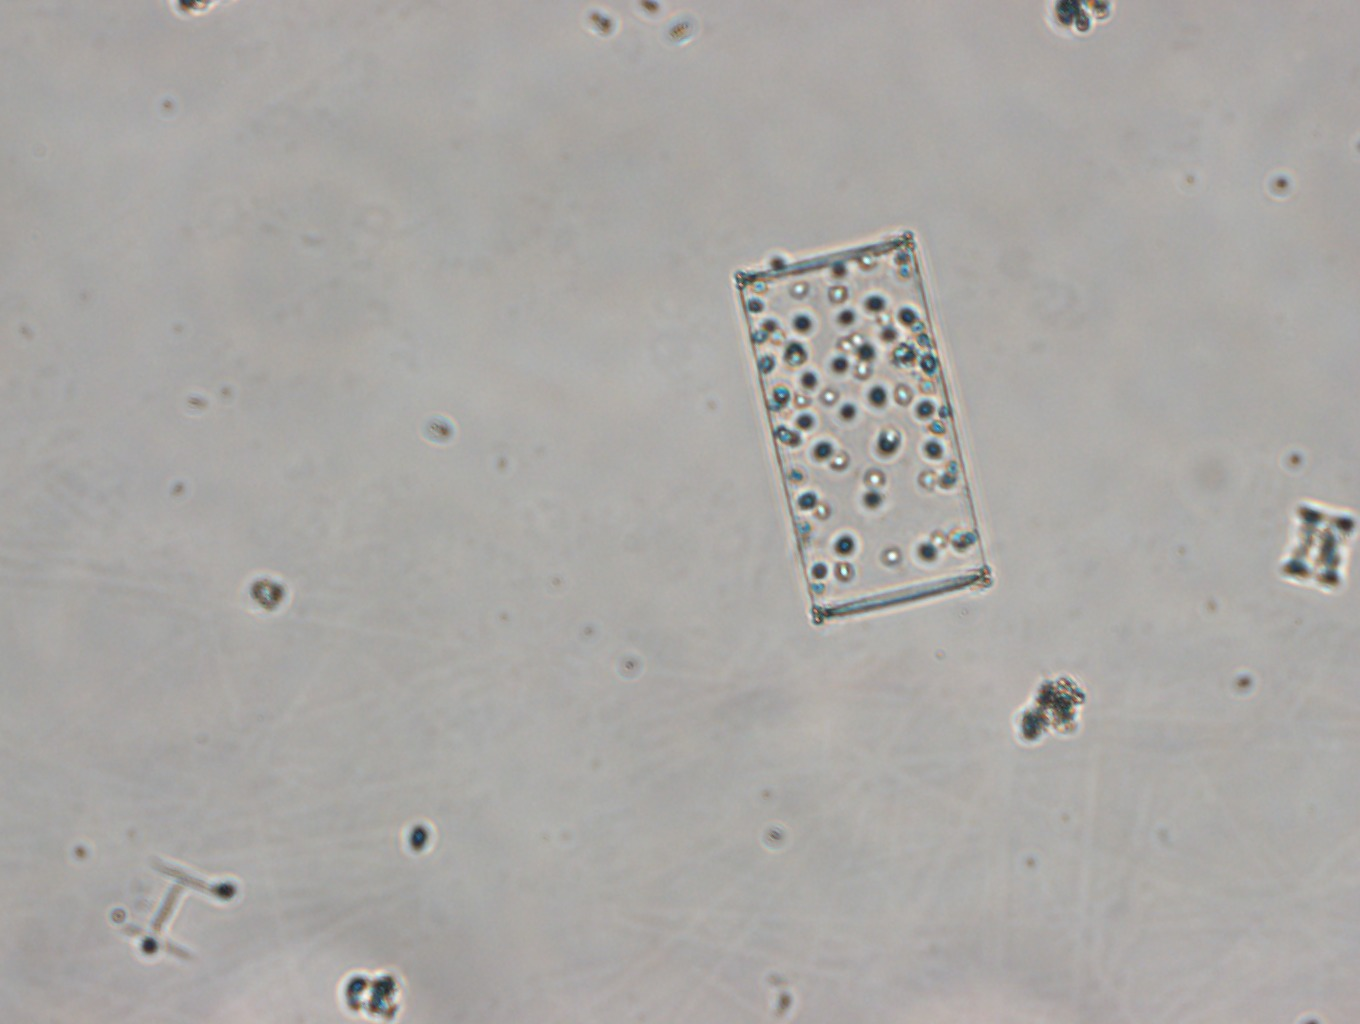guinardia flaccida: (735, 228, 989, 617)
